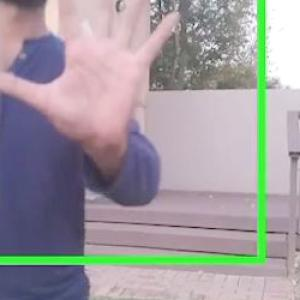follow_hand: (2, 0, 188, 154)
